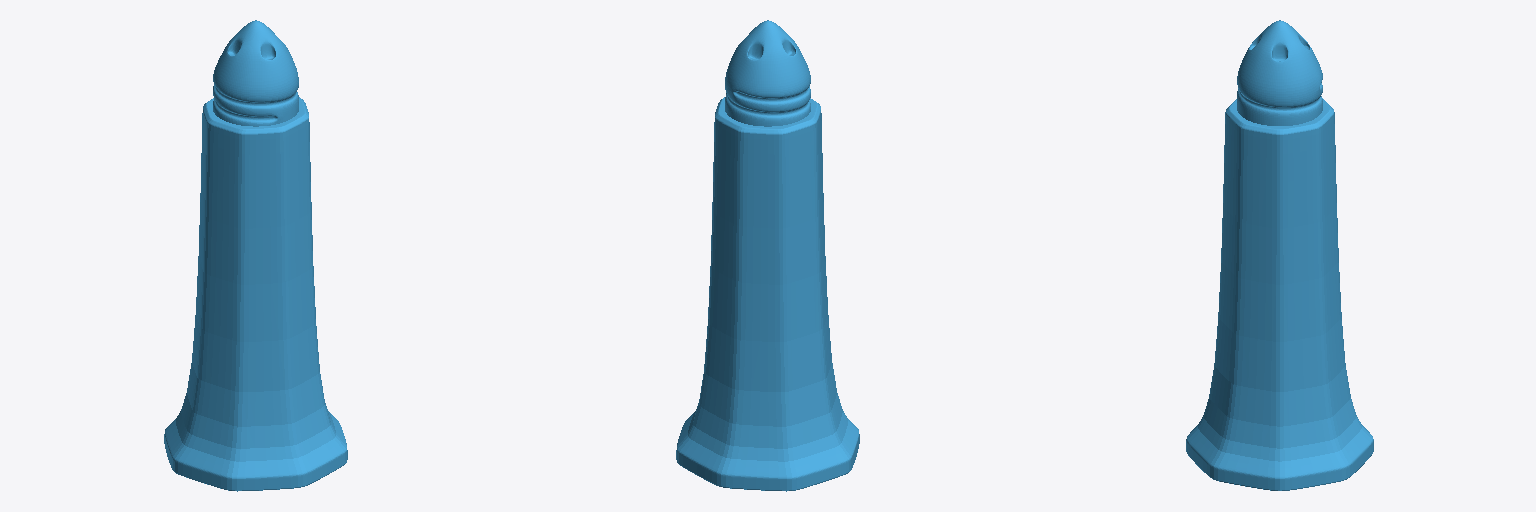
robot.urdf — partnet_fed045d07c91bb2723901b5a0f119b35:
<?xml version="1.0" ?>
<robot name="partnet_fed045d07c91bb2723901b5a0f119b35">
	<link name="base"/>
	<link name="link_0">
		<visual name="container-3">
			<origin xyz="0 0 0"/>
			<geometry>
				<mesh filename="textured_objs/20406_Tower_salt_shaker_v2.obj"/>
			</geometry>
		</visual>
		<collision>
			<origin xyz="0 0 0"/>
			<geometry>
				<mesh filename="textured_objs/20406_Tower_salt_shaker_v2.obj"/>
			</geometry>
		</collision>
	</link>
	<joint name="joint_0" type="fixed">
		<origin rpy="0 0 -1.570796326794897" xyz="0 0 0"/>
		<child link="link_0"/>
		<parent link="base"/>
	</joint>
</robot>

--- Render facts (derived) ---
3 views of the same robot in one strip: view 1: azimuth 30°, elevation 25°; view 2: azimuth 150°, elevation 25°; view 3: azimuth 270°, elevation 25° (orthographic).
Robot: partnet_fed045d07c91bb2723901b5a0f119b35 — 2 links, 1 joints (1 fixed); root link base; default pose: every joint at zero.
Visible links, largest first — view 1: link_0; view 2: link_0; view 3: link_0.
Link boxes in pixels (x1,y1,x2,y2): link_0: (164, 20, 347, 491); link_0: (676, 20, 859, 491); link_0: (1186, 20, 1373, 490).
Bounding box of the posed robot: 5.88 × 5.88 × 14.92 m (x, y, z).
Meshes: 1 distinct files referenced, 1 mesh visuals loaded (1 OBJ).
